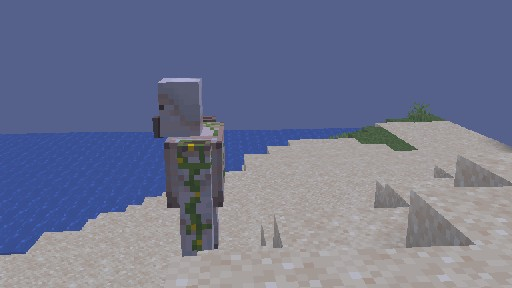iron_golem: (151, 76, 225, 288)
